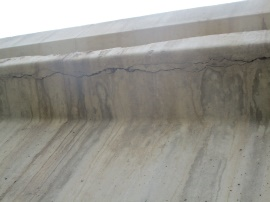corrosion: (212, 87, 229, 100), (100, 91, 109, 104)
